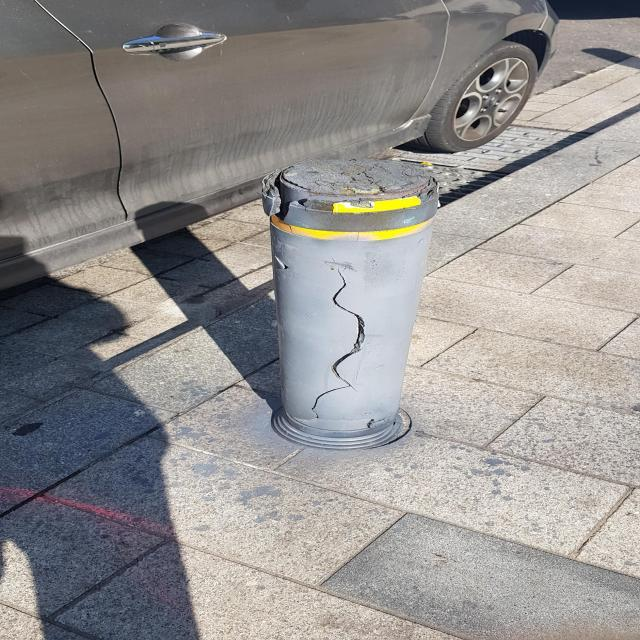pole: (266, 157, 440, 452)
